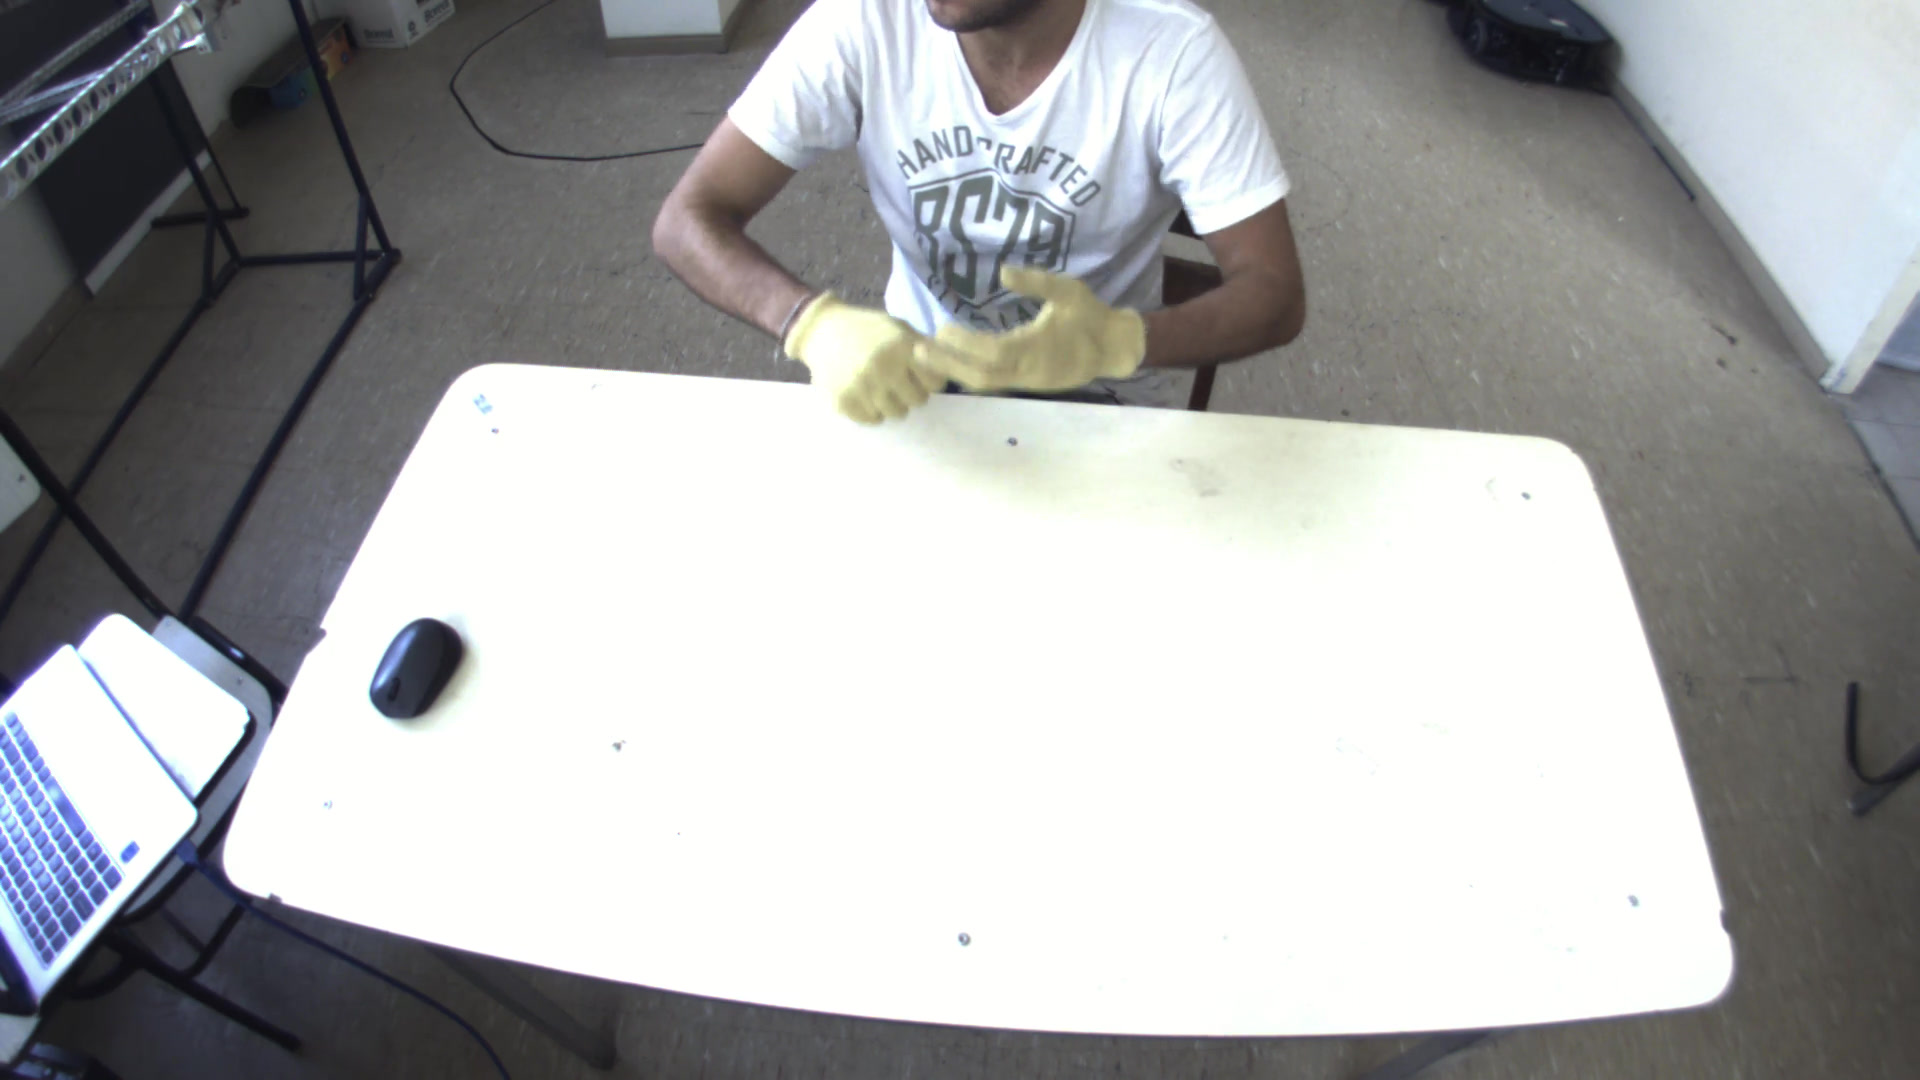hand: (899, 245, 1158, 404), (785, 277, 956, 427)
